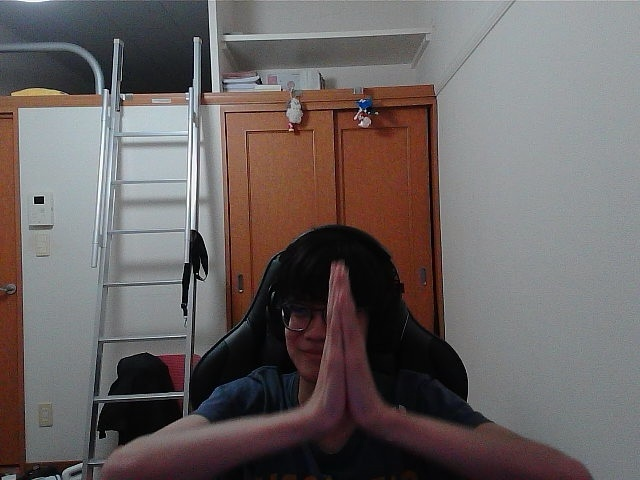pray: (333, 277, 347, 410)
